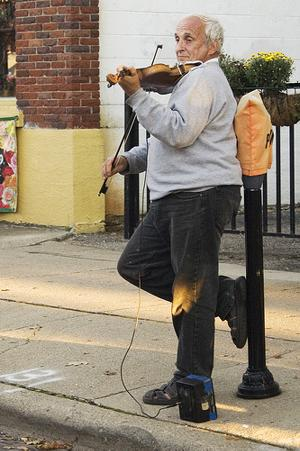person: (103, 17, 248, 408)
